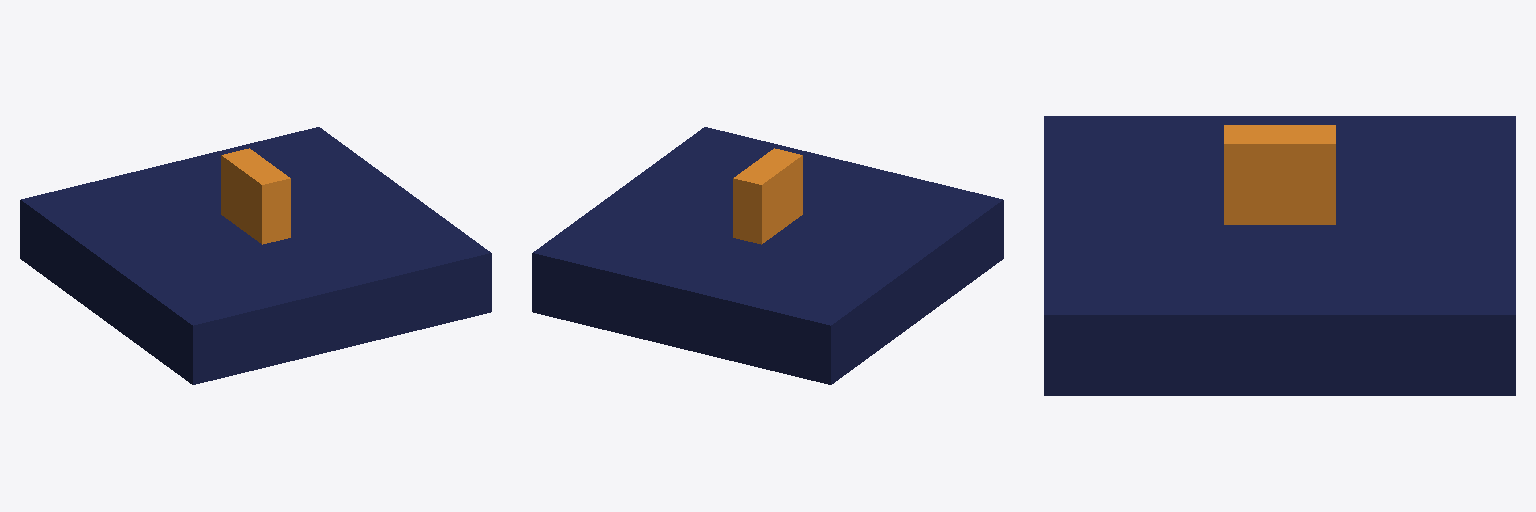
robot.urdf — bowl.urdf:
<?xml version="0.0" ?>
<robot name="bowl.urdf">

  <material name="yellow">
    <color rgba="1 1 0.4 1"/>
  </material>
  <material name="red">
    <color rgba="1 0 0 1"/>
  </material>
  <material name="blue">
    <color rgba=".17 .20 .38 1"/>
  </material>
  <material name="teal">
    <color rgba="0 .5 .5 1"/>
  </material>
  <material name="orange">
    <color rgba=".93 .6 .23 1"/>
  </material>

  <!-- <link name="world"/> -->

    <link name="world_axis1">
    <inertial>
      <mass value="0"/>
      <inertia ixx="0.0" ixy="0.0" ixz="0.0" iyy="0.0" iyz="0.0" izz="0.0"/>
    </inertial>
  </link>

  <link name="world_axis2">
    <inertial>
      <mass value="0"/>
      <inertia ixx="0.0" ixy="0.0" ixz="0.0" iyy="0.0" iyz="0.0" izz="0.0"/>
    </inertial>
  </link>


  <link name="lid">
    <!--<lateral_friction value="1.0"/>-->
    <lateral_friction value="1"/>
    <rolling_friction value="0.0"/>
    <contact_cfm value="0.0"/>
    <contact_erp value="1.0"/>
    <inertial>
      <origin rpy="0 0 0" xyz="0.0 0.0 -0.35"/>
       <mass value="1"/>
       <inertia ixx="1" ixy="0" ixz="0" iyy="1" iyz="0" izz="1"/>
    </inertial>
    <visual>
      <origin rpy="0 0 0" xyz="0 0 0"/>
      <geometry>
        <!--<cylinder radius="0.7" length=".05"/>-->
          <box size="1.05 1.05 .2"/>
      </geometry>
       <material name="blue"/>
    </visual>
    <collision>
      <origin rpy="0 0 0" xyz="0 0 0"/>
      <geometry>
          <!--<cylinder radius="0.7" length=".05"/>-->
          <box size="1.05 1.05 .1"/>

      </geometry>
    </collision>
  </link>

  <link name="handle">
    <lateral_friction value="1.0"/>
    <rolling_friction value="0.0"/>
    <contact_cfm value="0.0"/>
    <contact_erp value="1.0"/>
    <inertial>
      <origin rpy="0 0 0" xyz="0.0 0.0 0.0"/>
       <mass value="1"/> <!--<mass value="1"/>-->
       <inertia ixx="1" ixy="0" ixz="0" iyy="1" iyz="0" izz="1"/>
    </inertial>
    <visual>
      <origin rpy="0 0 0" xyz="0 0 0"/>
      <geometry>
        <box size="0.1 0.25 .3"/> <!--<box size="0.1 0.5 .3"/>-->
      </geometry>
       <material name="orange"/>
    </visual>
    <collision>
      <origin rpy="0 0 0" xyz="0 0 0"/>
      <geometry>
        <box size="0.1 0.25 .3"/>
      </geometry>
    </collision>
  </link>

      <!-- x axis -->
    <joint name="base_joint" type="prismatic">
        <parent link="world_axis1"/>
        <child link="world_axis2"/>
        <axis xyz="0 1 0"/>
        <limit effort="0" lower="-100" upper="100" velocity="100"/>
    </joint>

    <!-- z axis -->
    <joint name="base_joint3" type="prismatic">
        <parent link="world_axis2"/>
        <child link="lid"/>
        <axis xyz="0 0 1"/>
        <limit effort="0" lower="-100" upper="100" velocity="100"/>
    </joint>

  <joint name="handle_joint" type="fixed">
    <origin rpy="0 0 0" xyz="0 0 0.15"/>
    <parent link="lid"/>
    <child link="handle"/>
  </joint>

</robot>

--- What the picture shows (computed from the rendered views, not written in the file) ---
Views: 3 orthographic renders of the robot side by side, from view 1: azimuth 30°, elevation 25°; view 2: azimuth 150°, elevation 25°; view 3: azimuth 270°, elevation 25°.
Robot: bowl.urdf — 4 links, 3 joints (2 prismatic, 1 fixed); root link world_axis1; default pose: all joints at 0.
Visible links, largest first — view 1: lid, handle; view 2: lid, handle; view 3: lid, handle.
Link boxes in pixels (box(x1,y1,x2,y2)): lid: box(20, 127, 491, 384); handle: box(221, 148, 290, 244); lid: box(532, 127, 1003, 384); handle: box(733, 148, 802, 244); lid: box(1044, 116, 1515, 395); handle: box(1224, 125, 1335, 224).
Bounding box of the posed robot: 1.05 × 1.05 × 0.4 m (x, y, z).
Geometry: primitives only (box / cylinder / sphere), no mesh files.